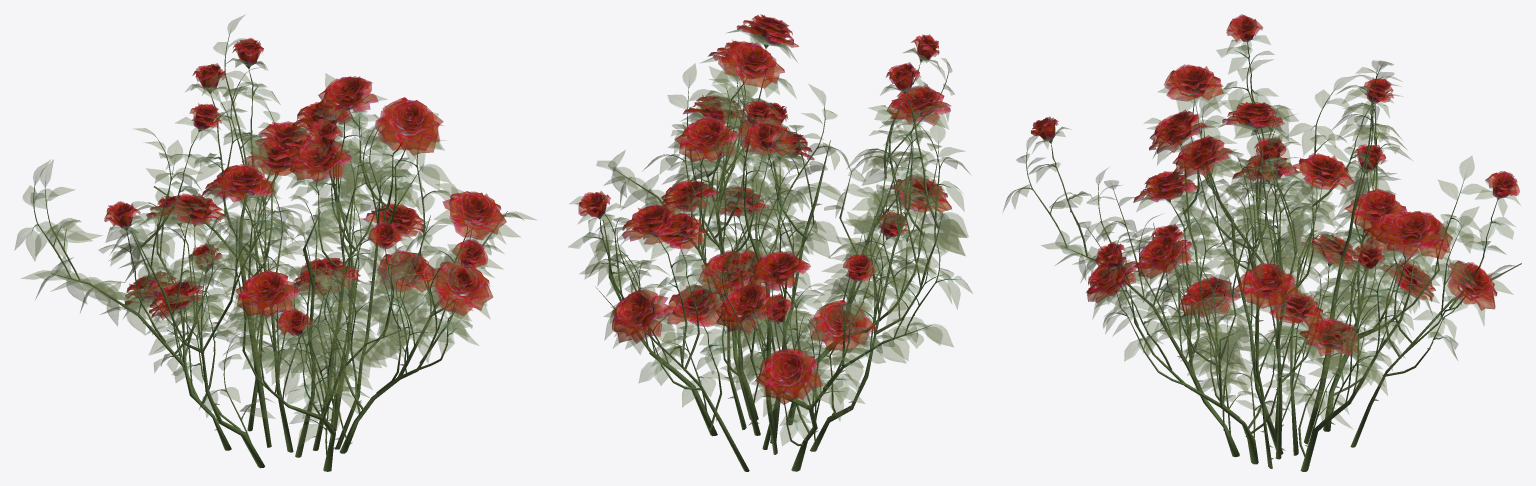
File: preview.glb
3 renders of one model, left to right at view 1: azimuth 30°, elevation 25°; view 2: azimuth 150°, elevation 25°; view 3: azimuth 270°, elevation 25°, orthographic. The views are drawn at different scales.
Visible parts, largest first — view 1: Shrub_Rosa_gallica_F_Leaf_glb, Shrub_Rosa_gallica_F_Flower_glb, Shrub_Rosa_gallica_F_Stem_glb; view 2: Shrub_Rosa_gallica_F_Leaf_glb, Shrub_Rosa_gallica_F_Flower_glb, Shrub_Rosa_gallica_F_Stem_glb; view 3: Shrub_Rosa_gallica_F_Leaf_glb, Shrub_Rosa_gallica_F_Flower_glb, Shrub_Rosa_gallica_F_Stem_glb.
Part boxes in pixels (x1,y1,x2,y2): Shrub_Rosa_gallica_F_Leaf_glb: [15, 14, 536, 449]; Shrub_Rosa_gallica_F_Flower_glb: [104, 37, 506, 335]; Shrub_Rosa_gallica_F_Stem_glb: [31, 34, 507, 471]; Shrub_Rosa_gallica_F_Leaf_glb: [568, 28, 972, 468]; Shrub_Rosa_gallica_F_Flower_glb: [578, 14, 951, 404]; Shrub_Rosa_gallica_F_Stem_glb: [587, 44, 960, 471]; Shrub_Rosa_gallica_F_Leaf_glb: [1003, 27, 1520, 459]; Shrub_Rosa_gallica_F_Flower_glb: [1031, 14, 1519, 356]; Shrub_Rosa_gallica_F_Stem_glb: [1012, 40, 1521, 471].
Size of the model in its own units: 1.31 by 1.13 by 1.37.
Materials: 3 (3 with a texture image).
